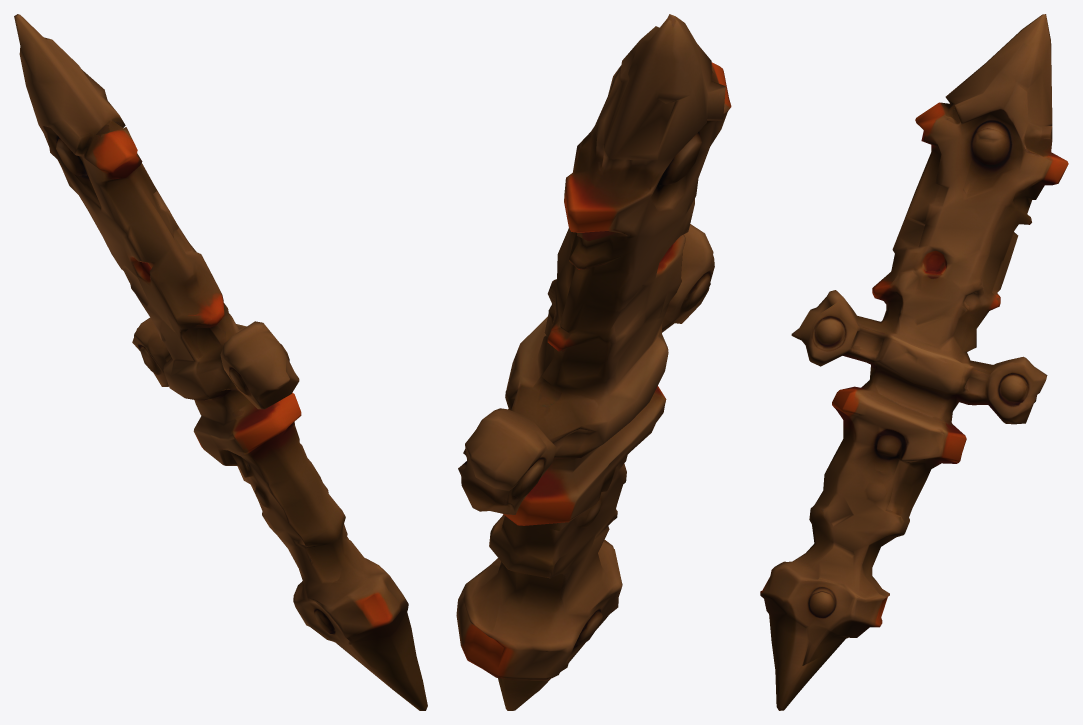
File: scrap_dagger.glb
3 views of the same model, side by side, from view 1: azimuth 30°, elevation 25°; view 2: azimuth 150°, elevation 25°; view 3: azimuth 270°, elevation 25° (orthographic). The views are drawn at different scales.
Parts seen in each view (by area): view 1: base_model_path; view 2: base_model_path; view 3: base_model_path.
Boxes of the visible parts, x1,y1,x2,y2 form: base_model_path: (14,14,427,710); base_model_path: (456,14,731,710); base_model_path: (760,14,1068,710).
Size of the model in its own units: 0.4304 by 0.9997 by 0.4793.
Materials: 1 (1 with a texture image).
